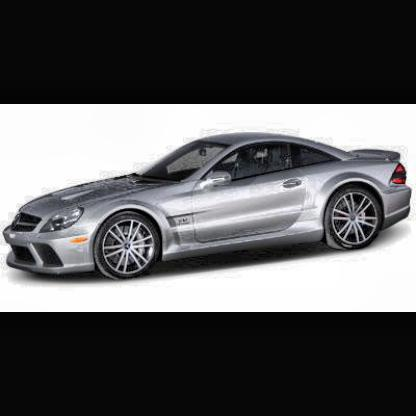Mercedes-Benz SL-Class Coupe 2009: (2, 127, 416, 288)
